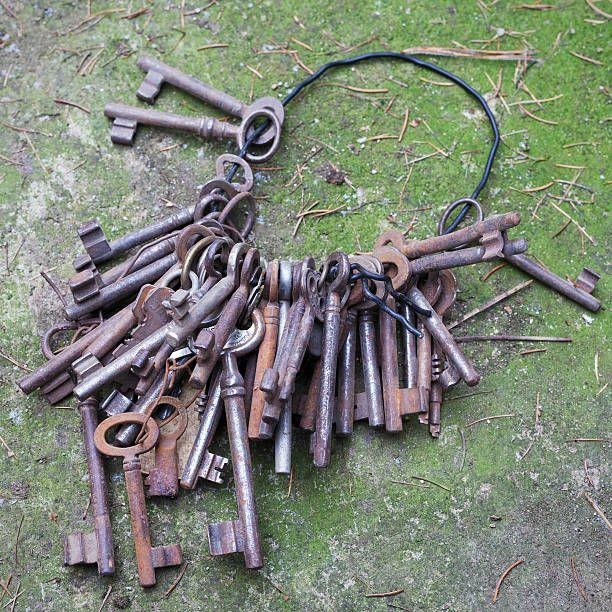metal: (299, 231, 461, 473), (66, 181, 257, 322), (436, 190, 610, 325), (199, 302, 268, 572), (89, 409, 188, 590), (94, 96, 295, 171), (130, 48, 293, 138), (50, 374, 119, 575)
